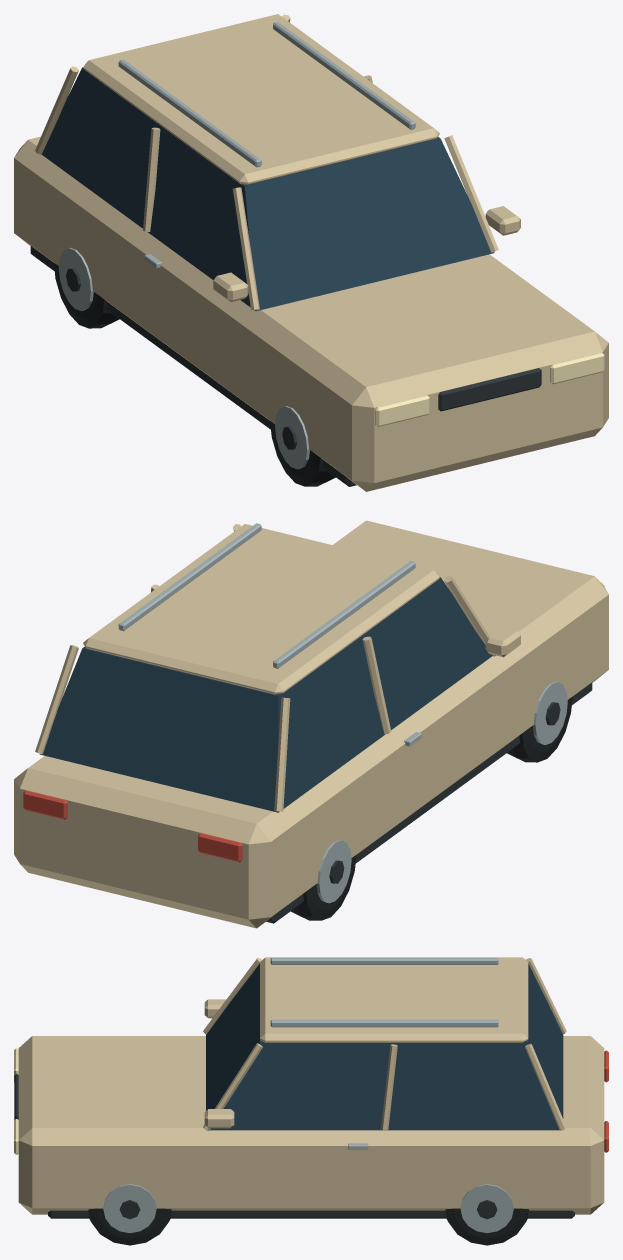
The model's file is car-crossover-05.glb.
3 renders of one model, top to bottom at view 1: azimuth 30°, elevation 25°; view 2: azimuth 150°, elevation 25°; view 3: azimuth 270°, elevation 25°, orthographic. The views are drawn at different scales.
Visible parts, largest first — view 1: Body, Glass, Roof, FrontGrille, Sill, RoofRail, RoofRail.001, Rim_FR, Rim_RR, Tyre_RR, Tyre_FR, WindowPillar (+7 smaller); view 2: Body, Glass, Roof, Sill, RoofRail.001, RoofRail, Rim_RR, Rim_FR, Tyre_FR, Tyre_RR, WindowPillar.002, WindowPillar.005 (+5 smaller); view 3: Body, Glass, Roof, Sill, RoofRail.001, RoofRail, Rim_FL, Rim_RL, Tyre_FL, Tyre_RL, WindowPillar.005, WindowPillar.004 (+4 smaller).
Part boxes in pixels (x1,y1,x2,y2): Body: (14, 136, 608, 491); Glass: (42, 67, 494, 311); Roof: (83, 14, 439, 184); FrontGrille: (438, 368, 541, 411); Sill: (30, 246, 356, 486); RoofRail: (118, 59, 261, 167); RoofRail.001: (273, 22, 415, 129); Rim_FR: (275, 406, 309, 469); Rim_RR: (58, 247, 93, 310); Tyre_RR: (54, 263, 119, 328); Tyre_FR: (270, 421, 335, 486); WindowPillar: (233, 187, 259, 310); Body: (14, 520, 608, 928); Glass: (39, 577, 492, 812); Roof: (83, 524, 439, 694); Sill: (266, 682, 592, 923); RoofRail.001: (118, 523, 261, 631); RoofRail: (273, 561, 415, 668); Rim_RR: (316, 840, 351, 903); Rim_FR: (532, 681, 567, 744); Tyre_FR: (507, 696, 572, 762); Tyre_RR: (291, 855, 356, 920); WindowPillar.002: (274, 697, 290, 811); WindowPillar.005: (35, 645, 78, 754); Body: (18, 1036, 604, 1214); Glass: (206, 963, 563, 1130); Roof: (260, 957, 528, 1042); Sill: (48, 1210, 574, 1218); RoofRail.001: (270, 1019, 498, 1027); RoofRail: (270, 957, 498, 964); Rim_FL: (103, 1184, 156, 1232); Rim_RL: (460, 1184, 513, 1233); Tyre_FL: (88, 1208, 171, 1245); Tyre_RL: (445, 1208, 528, 1245); WindowPillar.005: (525, 1043, 566, 1130); WindowPillar.004: (381, 1044, 397, 1129).
Bounding box in the file's own units: 2.08 × 1.7 × 4.42.
